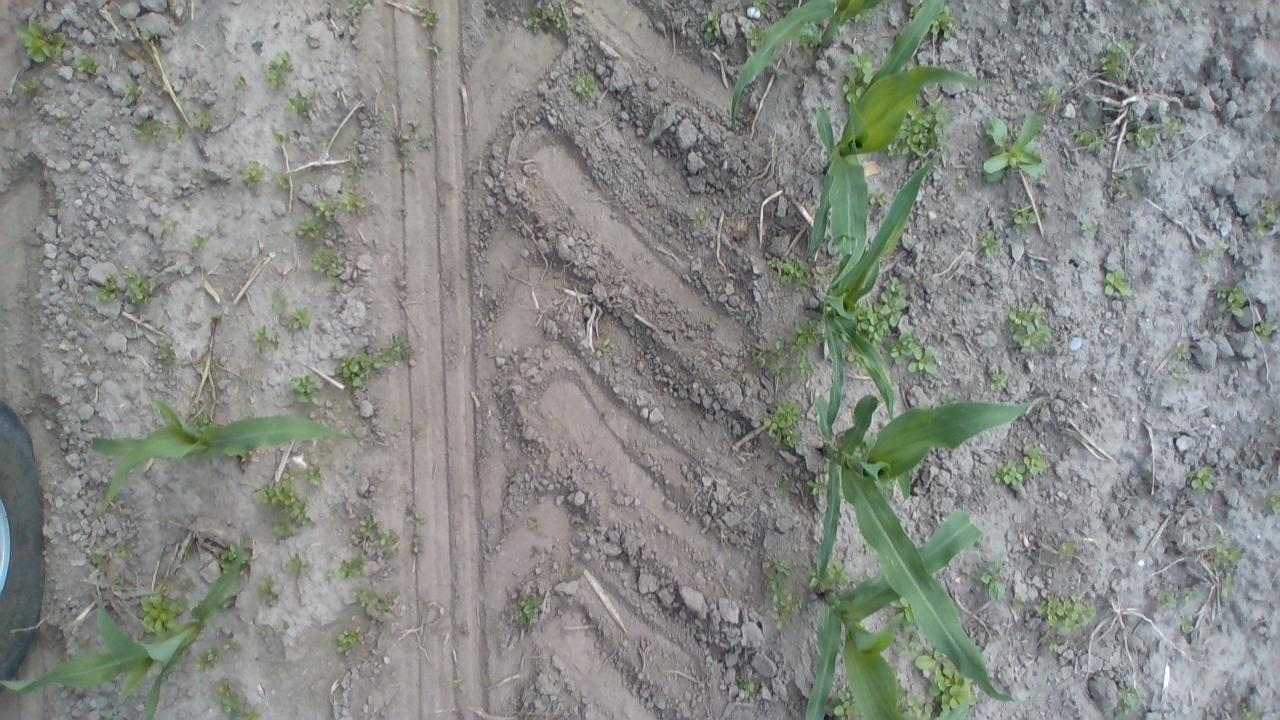Maize: (812, 394, 1028, 705), (806, 0, 987, 284), (0, 542, 242, 720), (810, 128, 944, 432), (802, 509, 983, 720), (90, 396, 350, 512), (727, 0, 883, 139)
Weeds: (914, 648, 978, 720), (982, 114, 1045, 182), (855, 275, 907, 352), (886, 98, 951, 156), (256, 469, 310, 526), (14, 14, 66, 64), (1034, 594, 1096, 634), (882, 332, 938, 375), (138, 592, 187, 639), (841, 52, 880, 106), (1010, 304, 1050, 356), (763, 399, 803, 448), (766, 573, 808, 615), (790, 319, 820, 376), (766, 256, 812, 292), (895, 679, 934, 720), (297, 198, 335, 238), (1100, 40, 1135, 82), (334, 351, 372, 389), (751, 340, 790, 377), (975, 556, 1006, 601), (824, 688, 865, 720), (808, 560, 848, 590), (310, 250, 341, 288), (122, 270, 152, 308), (1070, 125, 1110, 153), (264, 50, 292, 90), (888, 592, 918, 628), (527, 8, 568, 34), (1210, 538, 1242, 571), (372, 338, 406, 369), (283, 89, 313, 123), (392, 134, 416, 176), (1217, 284, 1247, 317), (290, 373, 320, 406), (990, 459, 1024, 487), (218, 681, 242, 720), (930, 5, 956, 39), (1103, 268, 1132, 297), (239, 161, 267, 189), (133, 118, 163, 144), (796, 21, 820, 53), (336, 627, 364, 654), (1116, 689, 1144, 716), (1187, 466, 1215, 492), (1012, 208, 1038, 236), (1126, 124, 1156, 148), (1023, 445, 1046, 476), (516, 594, 538, 626), (898, 629, 922, 657), (95, 274, 116, 304), (378, 527, 398, 557), (1039, 86, 1062, 112), (854, 1, 882, 22), (220, 543, 238, 575), (196, 647, 218, 673), (704, 8, 721, 41), (250, 324, 268, 355), (339, 190, 364, 212), (272, 516, 294, 539), (288, 307, 310, 330), (417, 4, 438, 28), (286, 556, 310, 577), (194, 412, 219, 432), (74, 54, 97, 75), (744, 26, 767, 47), (1196, 246, 1226, 262), (762, 560, 793, 575), (340, 557, 362, 578), (854, 436, 876, 457), (575, 74, 596, 96), (350, 587, 373, 607), (736, 675, 756, 698), (258, 576, 277, 600), (806, 476, 828, 496), (846, 348, 866, 370), (358, 514, 376, 538), (982, 231, 998, 258), (269, 288, 287, 312), (347, 0, 368, 20), (122, 80, 141, 102), (1162, 116, 1180, 139), (814, 264, 839, 280), (772, 612, 792, 632), (170, 120, 186, 144), (156, 345, 173, 366), (1242, 705, 1264, 720), (1267, 489, 1280, 514), (867, 187, 885, 205), (193, 111, 210, 130), (308, 466, 324, 486), (231, 73, 247, 92), (1222, 576, 1236, 597), (990, 373, 1007, 390), (20, 78, 40, 92), (596, 338, 610, 358), (430, 35, 442, 58), (1059, 540, 1076, 556), (1172, 343, 1188, 360), (274, 173, 290, 190), (1172, 371, 1190, 386), (191, 232, 205, 251), (1255, 321, 1272, 336), (908, 0, 923, 17), (751, 0, 768, 15), (1048, 638, 1066, 652), (1182, 588, 1199, 602), (940, 393, 958, 406), (243, 707, 261, 720), (1078, 222, 1099, 233), (881, 481, 892, 502), (1253, 219, 1267, 235), (689, 214, 706, 227), (1265, 200, 1276, 220), (1181, 614, 1193, 632), (1162, 594, 1176, 608), (163, 219, 178, 232), (114, 544, 129, 557), (377, 600, 393, 612), (1012, 598, 1028, 610), (90, 554, 106, 566), (563, 570, 582, 580), (776, 476, 786, 494), (860, 542, 874, 554), (406, 118, 422, 128), (272, 131, 284, 144), (140, 29, 154, 40), (222, 642, 240, 650), (858, 573, 872, 583), (346, 165, 356, 178), (184, 548, 194, 561), (420, 140, 434, 149), (241, 552, 251, 564), (176, 95, 185, 108), (154, 582, 168, 590), (1112, 170, 1125, 178), (956, 174, 964, 187), (58, 114, 68, 124), (840, 334, 850, 344), (238, 570, 248, 580), (192, 168, 202, 178), (837, 24, 846, 35), (553, 0, 568, 5), (415, 512, 424, 520), (510, 474, 518, 483), (276, 626, 286, 633), (244, 412, 254, 419), (254, 110, 262, 117), (1114, 715, 1125, 720), (326, 572, 334, 578), (1146, 0, 1158, 4)
